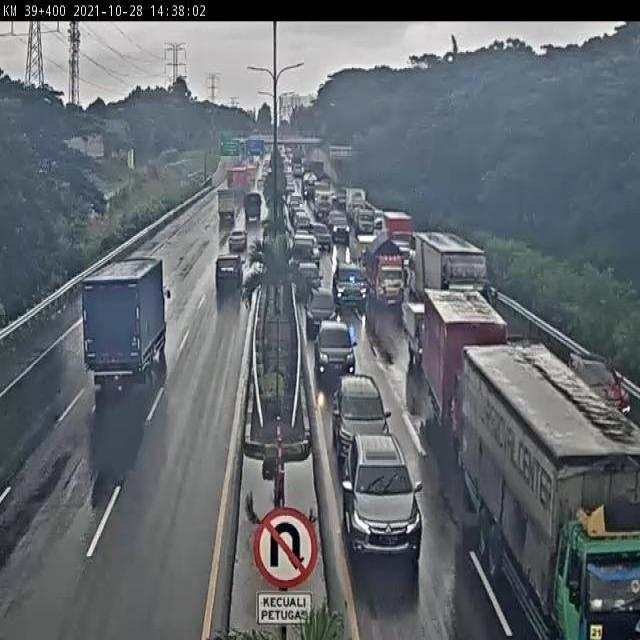car: (331, 260, 368, 307)
truck-l-: (461, 344, 639, 640), (416, 233, 496, 323)
truck-m-: (423, 291, 507, 440), (84, 257, 167, 383), (365, 239, 403, 305)
